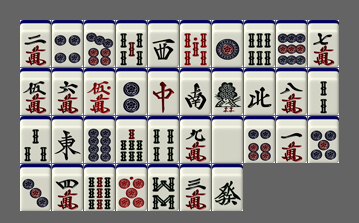0m: (84, 68, 115, 115)
0p: (116, 164, 147, 211)
0s: (180, 20, 211, 67)
1m: (276, 116, 307, 163)
1p: (212, 20, 243, 67)
1s: (212, 68, 243, 115)
1z: (52, 116, 83, 163)
2m: (20, 20, 51, 67)
2p: (116, 68, 147, 115)
2s: (308, 68, 339, 115)
2z: (180, 68, 211, 115)
3m: (180, 164, 211, 211)
3p: (20, 164, 51, 211)
3s: (20, 116, 51, 163)
3z: (148, 20, 179, 67)
4m: (52, 164, 83, 211)
4p: (52, 20, 83, 67)
4s: (148, 116, 179, 163)
4z: (244, 68, 275, 115)
5m: (20, 68, 51, 115)
5p: (308, 116, 339, 163)
5s: (116, 20, 147, 67)
5z: (212, 116, 243, 163)
6m: (52, 68, 83, 115)
6p: (244, 116, 275, 163)
6s: (244, 20, 275, 67)
6z: (212, 164, 243, 211)
7m: (308, 20, 339, 67)
7p: (84, 20, 115, 67)
7s: (116, 116, 147, 163)
7z: (148, 68, 179, 115)
8m: (276, 68, 307, 115)
8p: (84, 116, 115, 163)
8s: (148, 164, 179, 211)
9m: (180, 116, 211, 163)
9p: (276, 20, 307, 67)
9s: (84, 164, 115, 211)
